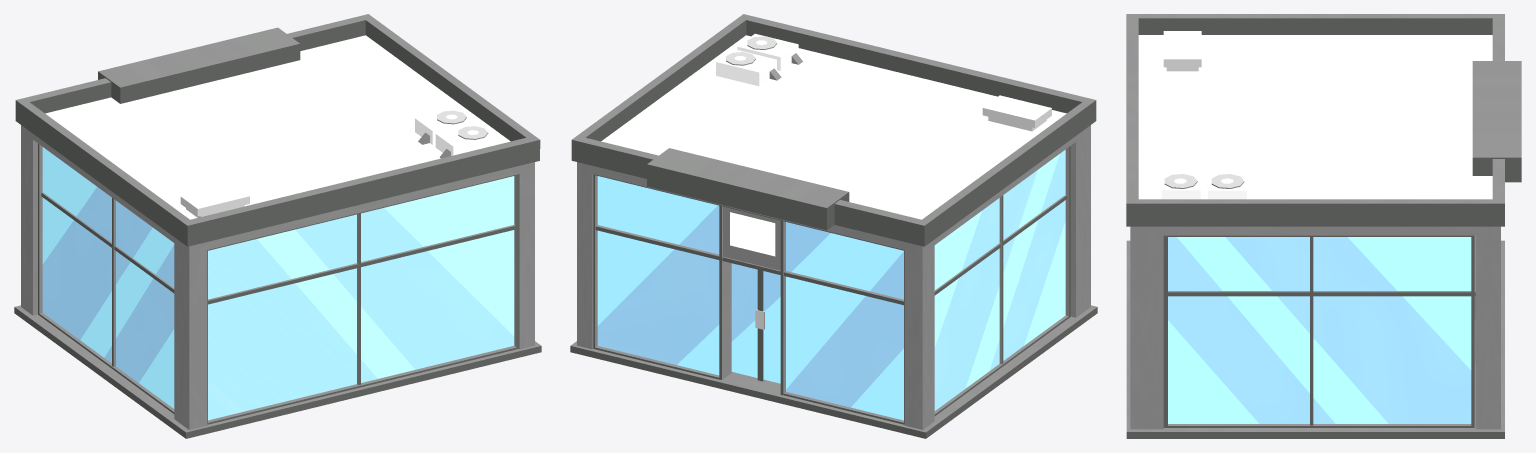
Rendered from supermarket.002.glb.
3 renders of one model, left to right at view 1: azimuth 30°, elevation 25°; view 2: azimuth 150°, elevation 25°; view 3: azimuth 270°, elevation 25°, orthographic. The views are drawn at different scales.
Visible parts, largest first — view 1: supermarket.002(Clone); view 2: supermarket.002(Clone); view 3: supermarket.002(Clone).
Part boxes in pixels (x1,y1,x2,y2): supermarket.002(Clone): (14, 14, 541, 438); supermarket.002(Clone): (570, 14, 1097, 438); supermarket.002(Clone): (1126, 14, 1521, 438).
Size of the model in its own units: 6.82 by 3.93 by 5.96.
Materials: 1 (1 with a texture image).
